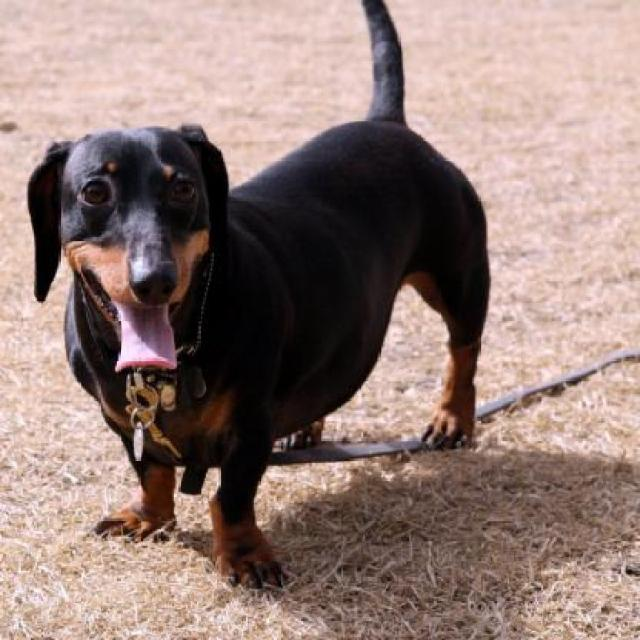Dog: (20, 1, 497, 592)
